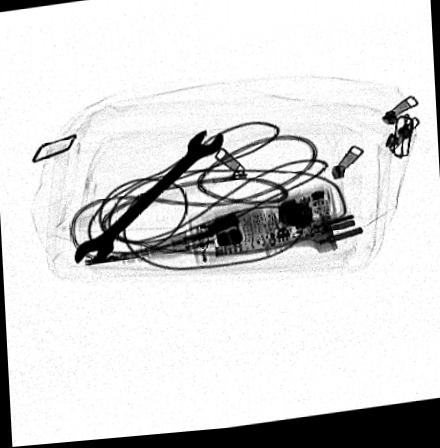Wrench: (71, 132, 224, 266)
